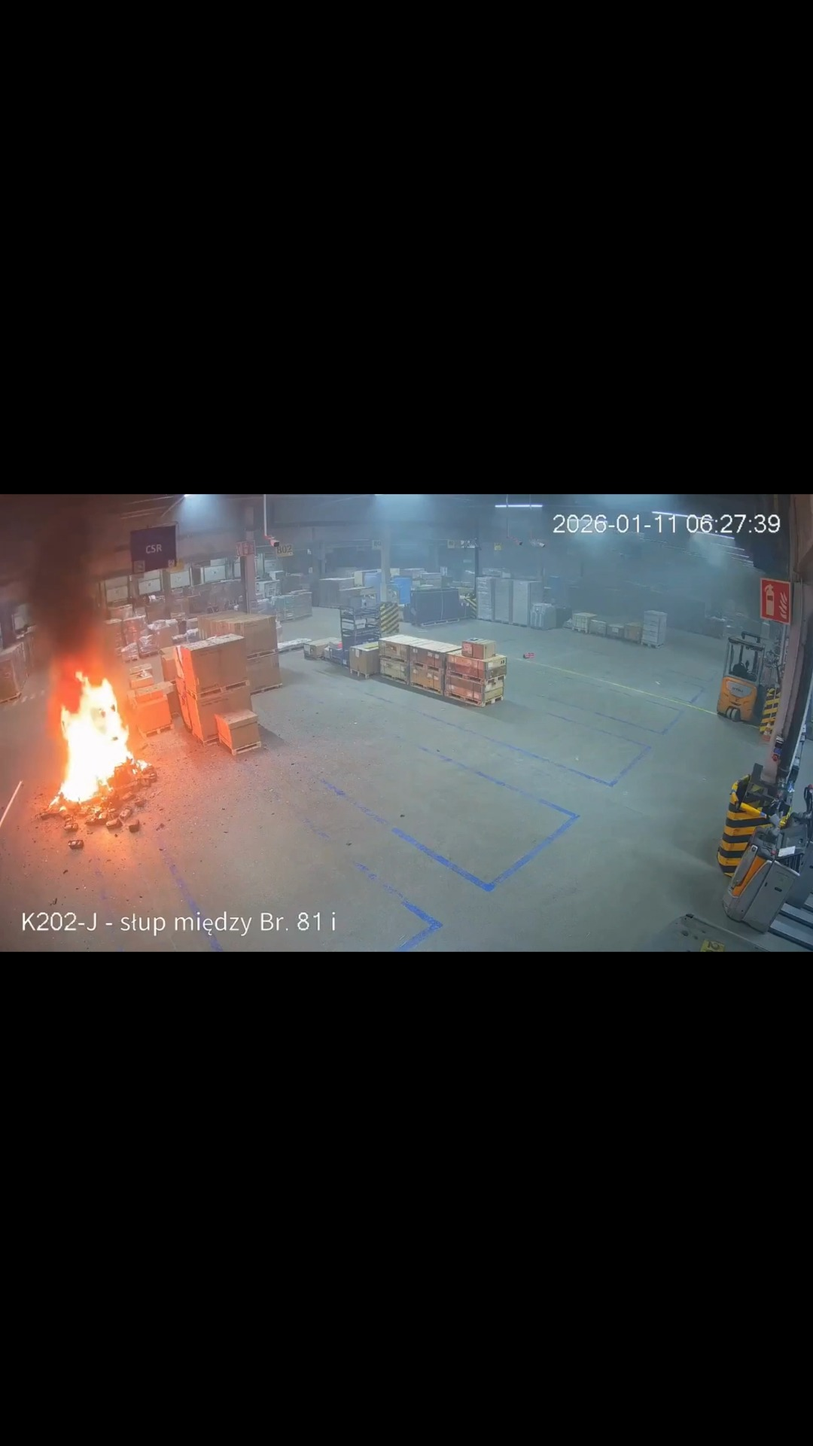fire: (47, 665, 148, 816)
smoke: (0, 495, 141, 689)
